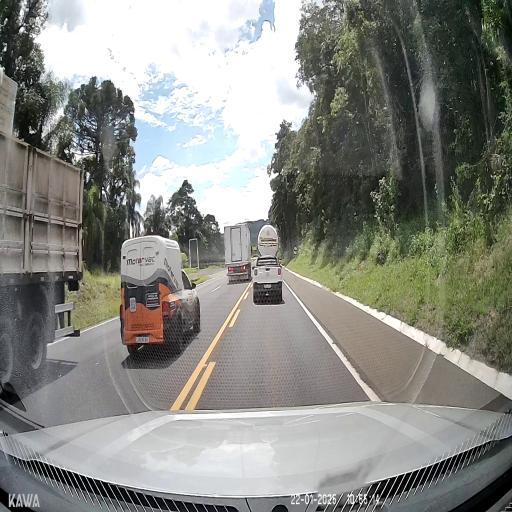R-7: (293, 246, 298, 255)
